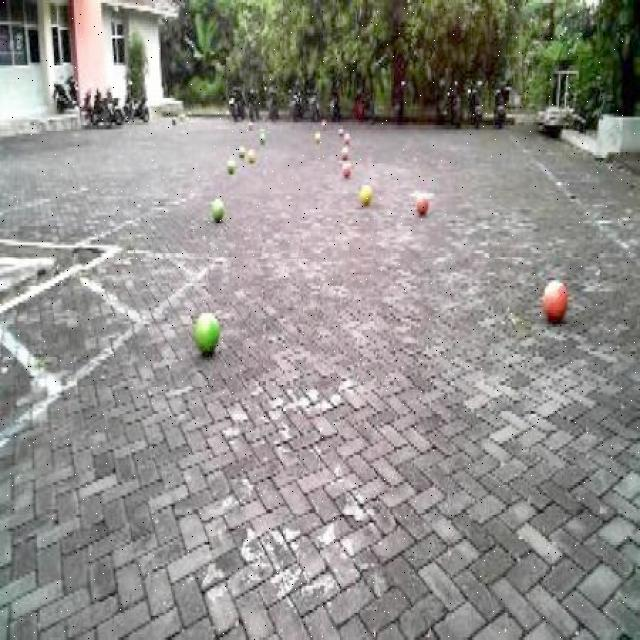buoy: (186, 299, 226, 362), (537, 267, 574, 329), (208, 192, 226, 225), (358, 177, 372, 207), (414, 189, 429, 216)
